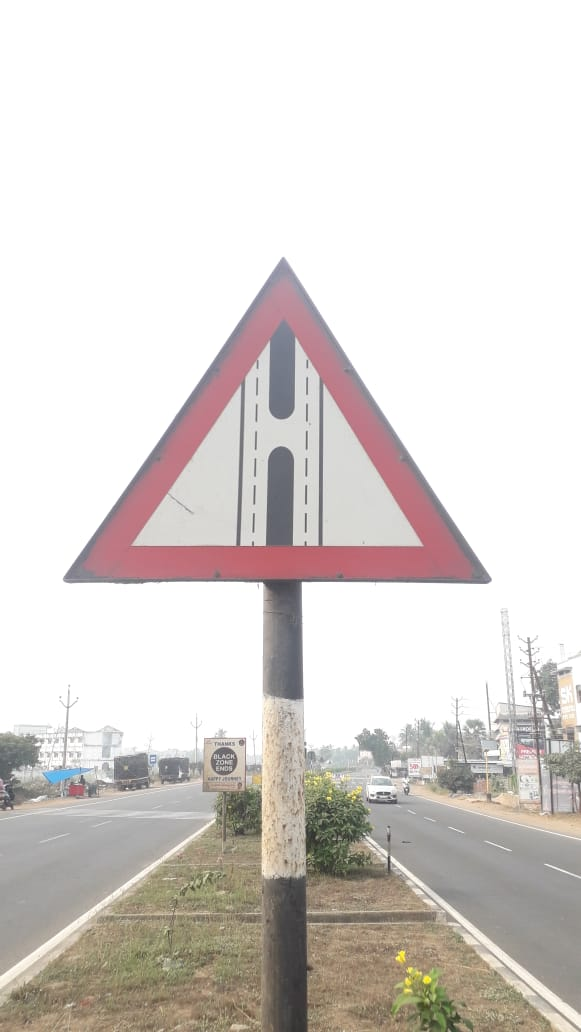highway go straight: (46, 235, 517, 632)
